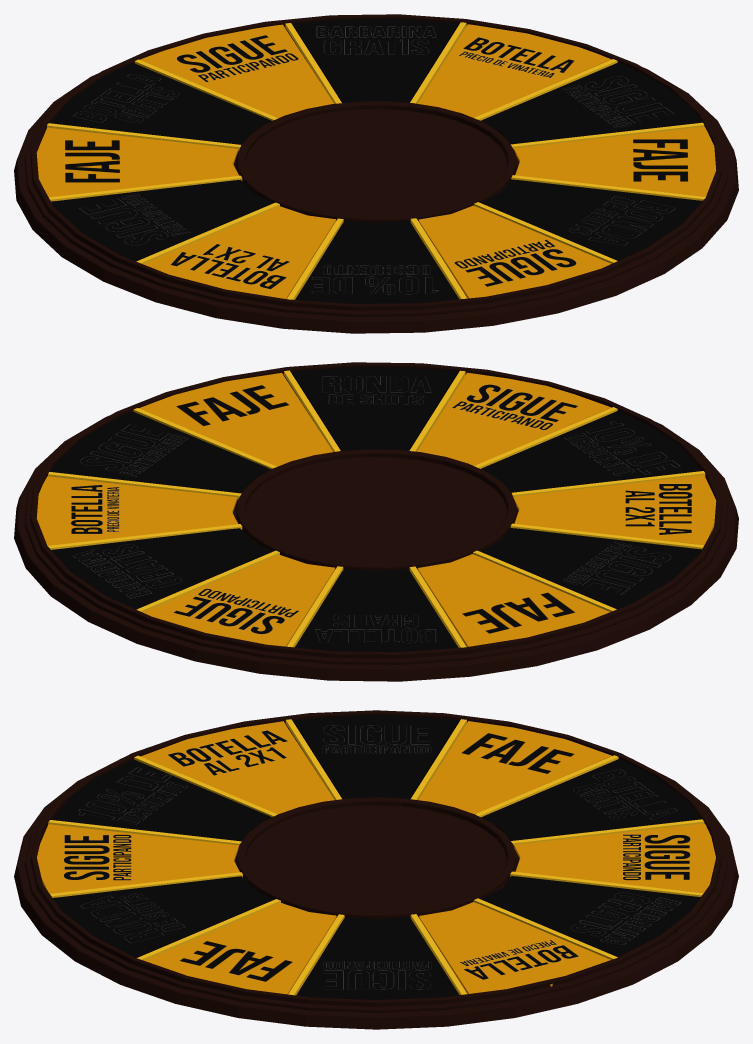
3 renders of one model, top to bottom at view 1: azimuth 30°, elevation 25°; view 2: azimuth 150°, elevation 25°; view 3: azimuth 270°, elevation 25°, orthographic.
Parts seen in each view (by area): view 1: Circle.Base, Cheese.Golden, Cheese.Black, Cheese.rectangles, Recurso 7, Recurso 8.002, Recurso 8.003, Recurso 8, Recurso 8.001, Recurso 4, Recurso 3, Recurso 1 (+4 smaller); view 2: Circle.Base, Cheese.Golden, Cheese.Black, Cheese.rectangles, Recurso 7, Recurso 8.003, Recurso 8.002, Recurso 8, Recurso 8.001, Recurso 3, Recurso 4, Recurso 1 (+4 smaller); view 3: Circle.Base, Cheese.Golden, Cheese.Black, Cheese.rectangles, Recurso 8.001, Recurso 8, Recurso 7, Recurso 8.003, Recurso 3, Recurso 8.002, Recurso 4, Recurso 1 (+4 smaller).
Boxes of the visible parts, bbox=[...] form: Circle.Base: bbox=[14, 14, 738, 333]; Cheese.Golden: bbox=[36, 24, 716, 299]; Cheese.Black: bbox=[51, 19, 702, 303]; Cheese.rectangles: bbox=[47, 22, 705, 299]; Recurso 7: bbox=[316, 26, 436, 54]; Recurso 8.002: bbox=[79, 194, 189, 245]; Recurso 8.003: bbox=[563, 76, 673, 127]; Recurso 8: bbox=[176, 35, 298, 81]; Recurso 8.001: bbox=[454, 239, 576, 286]; Recurso 4: bbox=[569, 196, 675, 245]; Recurso 3: bbox=[312, 265, 438, 294]; Recurso 1: bbox=[73, 74, 179, 122]; Circle.Base: bbox=[14, 362, 738, 681]; Cheese.Golden: bbox=[31, 372, 716, 646]; Cheese.Black: bbox=[50, 367, 701, 651]; Cheese.rectangles: bbox=[48, 370, 705, 647]; Recurso 7: bbox=[73, 544, 181, 598]; Recurso 8.003: bbox=[80, 424, 187, 476]; Recurso 8.002: bbox=[563, 541, 670, 594]; Recurso 8: bbox=[173, 588, 298, 634]; Recurso 8.001: bbox=[452, 384, 577, 429]; Recurso 3: bbox=[564, 421, 680, 475]; Recurso 4: bbox=[323, 376, 431, 404]; Recurso 1: bbox=[315, 614, 435, 643]; Circle.Base: bbox=[14, 710, 738, 1029]; Cheese.Golden: bbox=[37, 721, 715, 994]; Cheese.Black: bbox=[52, 715, 701, 999]; Cheese.rectangles: bbox=[48, 719, 704, 995]; Recurso 8.001: bbox=[63, 834, 131, 880]; Recurso 8: bbox=[622, 834, 690, 880]; Recurso 7: bbox=[571, 892, 680, 944]; Recurso 8.003: bbox=[323, 961, 431, 989]; Recurso 3: bbox=[79, 767, 187, 824]; Recurso 8.002: bbox=[323, 725, 430, 753]; Recurso 4: bbox=[80, 893, 184, 942]; Recurso 1: bbox=[573, 769, 677, 819].
Bounding box in the file's own units: 3.96 × 0.124 × 3.96.
16 materials, 12 textured.
